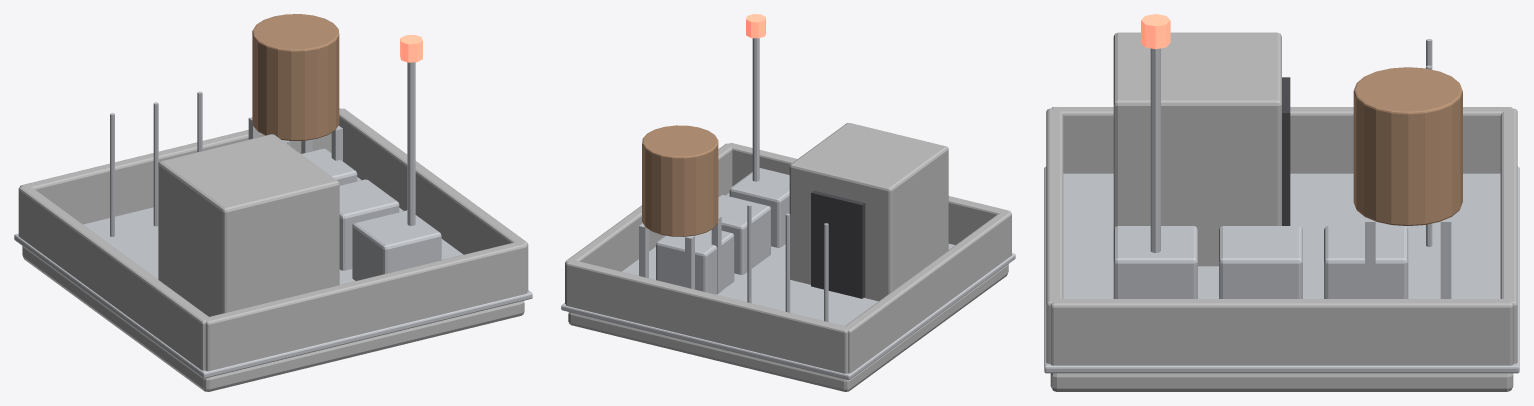
Rendered from roof_2x2_mech_concrete.glb.
3 renders of one model, left to right at view 1: azimuth 30°, elevation 25°; view 2: azimuth 150°, elevation 25°; view 3: azimuth 270°, elevation 25°, orthographic. The views are drawn at different scales.
Visible parts, largest first — view 1: ext_parapet, ext_penthouse, ext_tank, ext_ac, int_slab, int_slab_edge, ext_mast, ext_tank_legs, ext_ant1, ext_ant0, ext_beacon; view 2: ext_parapet, ext_penthouse, ext_ac, ext_tank, int_slab_edge, int_slab, ext_penthouse_door, ext_tank_legs, ext_mast, ext_ant1, ext_ant0, ext_ant2 (+1 smaller); view 3: ext_parapet, ext_penthouse, int_slab_edge, ext_ac, ext_tank, int_slab, ext_mast, ext_tank_legs, ext_penthouse_door, ext_beacon.
Part boxes in pixels (<box>): ext_parapet: <box>18,108,528,371</box>; ext_penthouse: <box>158,134,339,316</box>; ext_tank: <box>252,14,339,140</box>; ext_ac: <box>301,148,441,280</box>; int_slab: <box>22,246,524,391</box>; int_slab_edge: <box>14,177,532,378</box>; ext_mast: <box>407,62,415,225</box>; ext_tank_legs: <box>248,117,342,161</box>; ext_ant1: <box>153,102,158,226</box>; ext_ant0: <box>110,113,114,236</box>; ext_beacon: <box>400,34,422,62</box>; ext_parapet: <box>565,143,1011,373</box>; ext_penthouse: <box>789,123,948,301</box>; ext_ac: <box>656,168,789,294</box>; ext_tank: <box>642,125,718,236</box>; int_slab_edge: <box>561,193,1015,380</box>; int_slab: <box>568,264,1008,391</box>; ext_penthouse_door: <box>811,190,865,298</box>; ext_tank_legs: <box>639,216,721,293</box>; ext_mast: <box>752,38,759,181</box>; ext_ant1: <box>785,213,790,312</box>; ext_ant0: <box>824,223,828,321</box>; ext_ant2: <box>747,204,751,303</box>; ext_parapet: <box>1046,107,1517,365</box>; ext_penthouse: <box>1113,32,1281,266</box>; int_slab_edge: <box>1044,166,1519,373</box>; ext_ac: <box>1113,226,1408,298</box>; ext_tank: <box>1353,67,1462,225</box>; int_slab: <box>1050,373,1513,391</box>; ext_mast: <box>1150,48,1160,252</box>; ext_tank_legs: <box>1365,217,1451,298</box>; ext_penthouse_door: <box>1282,77,1290,225</box>; ext_beacon: <box>1141,14,1170,49</box>.
Size of the model in its own units: 2.26 by 1.73 by 2.26.
